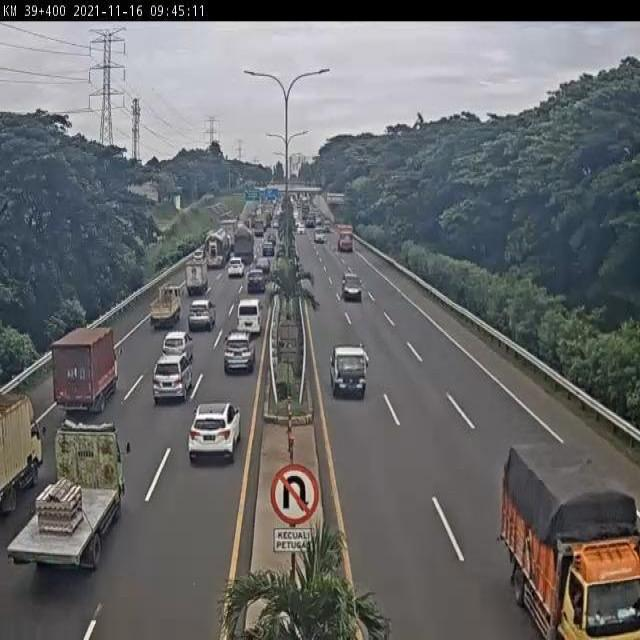car: (188, 400, 240, 467), (328, 345, 367, 396), (152, 358, 191, 402), (223, 331, 255, 373), (162, 332, 195, 361), (189, 295, 216, 328), (339, 269, 365, 303), (236, 301, 262, 335), (247, 268, 268, 293), (227, 256, 246, 276)
small truck: (52, 327, 118, 413), (150, 284, 180, 331), (187, 260, 209, 293)
truck-m-: (499, 444, 640, 640), (9, 422, 131, 570)
